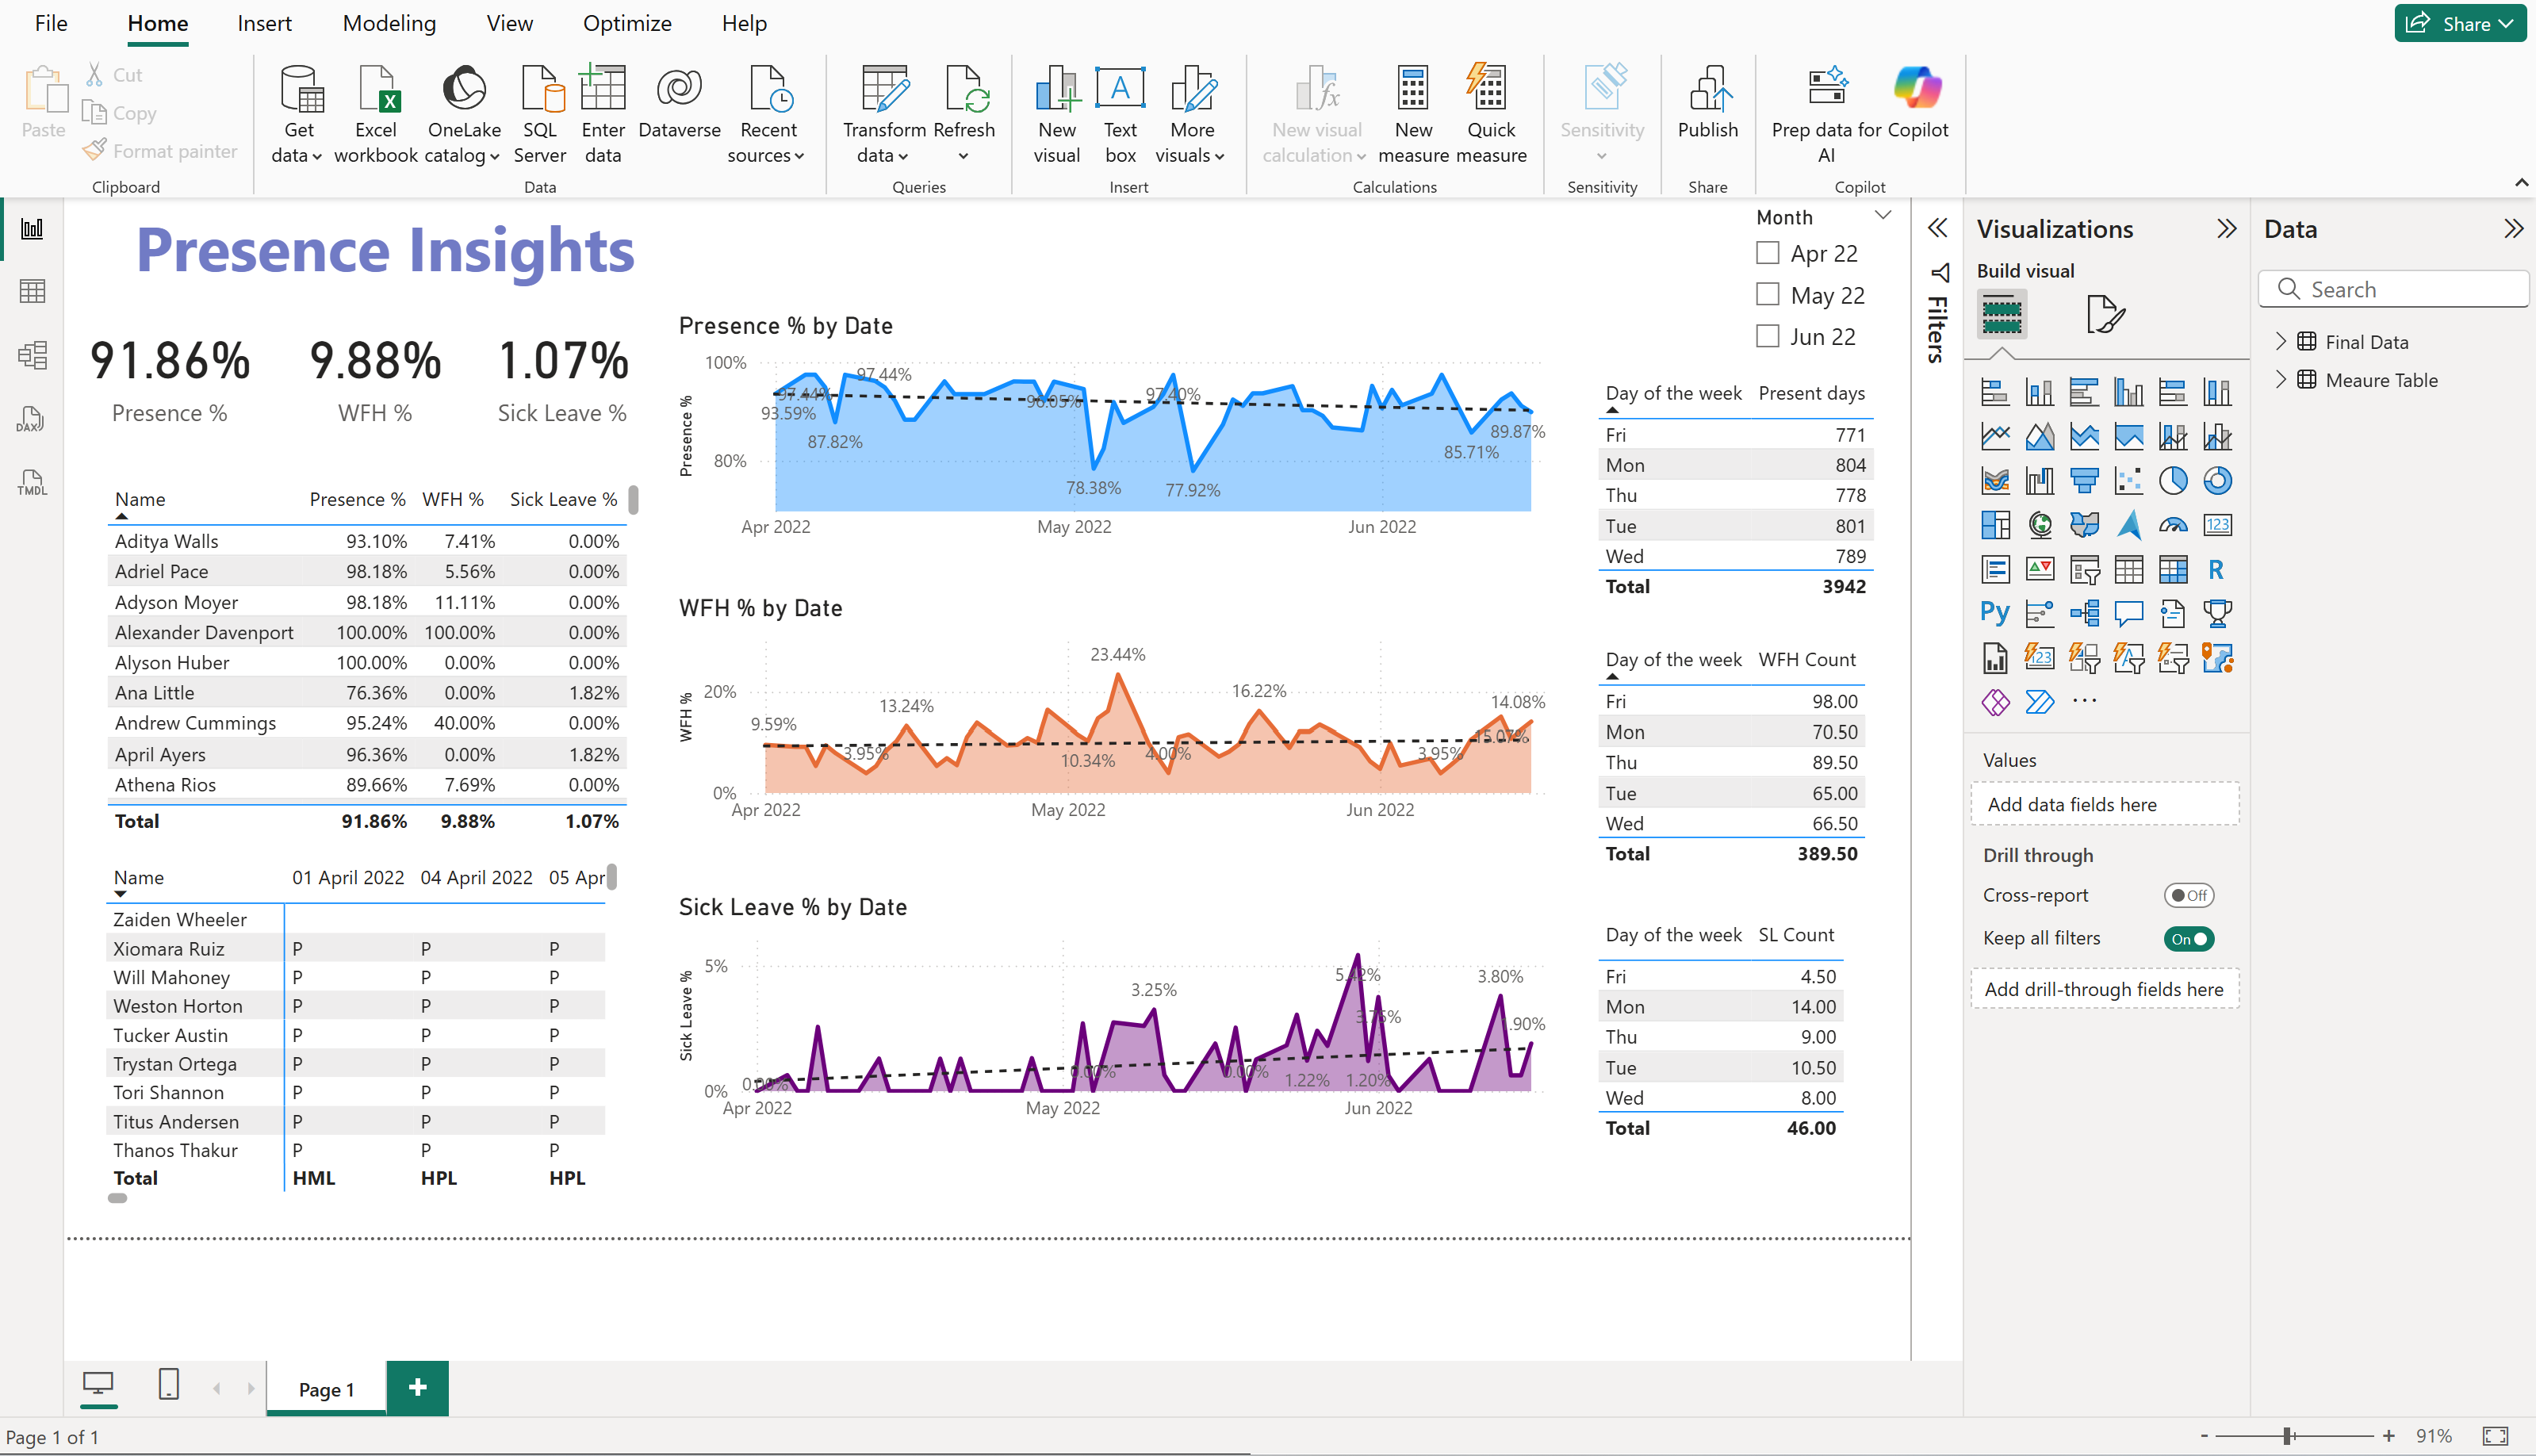

The page's visual inventory and layout, read from the dashboard file:
{"tool":"powerbi","page":{"name":"Page 1","canvas":[1280,720],"ordinal":0},"visuals":[{"type":"card","fields":{"Values":["Meaure Table.Presence %"]},"box":[0,63.8,146.2,112.5],"z":0},{"type":"slicer","fields":{"Values":["Final Data.Month"]},"box":[1160,0,120,128.6],"z":1000},{"type":"card","fields":{"Values":["Meaure Table.WFH %"]},"box":[146.2,63.8,138.8,112.5],"z":2000},{"type":"card","fields":{"Values":["Meaure Table.Sick Leave %"]},"box":[285,63.8,121.2,112.5],"z":3000},{"type":"tableEx","fields":{"Values":["Final Data.Name","Meaure Table.Presence %","Meaure Table.WFH %","Meaure Table.Sick Leave %"]},"box":[23.8,193.8,380,252.5],"z":4000},{"type":"textbox","box":[43.8,0,386.2,78.8],"z":5000},{"type":"pivotTable","fields":{"Rows":["Final Data.Name"],"Values":["Min(Final Data.Value)"],"Columns":["Final Data.Date"]},"box":[23.8,455,365,247.5],"z":6000},{"type":"areaChart","fields":{"Category":["Final Data.Date"],"Y":["Meaure Table.Presence %"]},"box":[420.7,79.5,625,167.5],"z":7000},{"type":"areaChart","fields":{"Category":["Final Data.Date"],"Y":["Meaure Table.WFH %"]},"box":[420.7,274.5,625,167.5],"z":8000},{"type":"areaChart","fields":{"Category":["Final Data.Date"],"Y":["Meaure Table.Sick Leave %"]},"box":[420.7,482,625,167.5],"z":9000},{"type":"tableEx","fields":{"Values":["Final Data.Day of the week","Meaure Table.Present days"]},"box":[1057.5,120,205,168.8],"z":10000},{"type":"tableEx","fields":{"Values":["Final Data.Day of the week","Meaure Table.WFH Count"]},"box":[1057.5,305,205,168.8],"z":11000},{"type":"tableEx","fields":{"Values":["Final Data.Day of the week","Meaure Table.SL Count"]},"box":[1057.5,495,205,168.8],"z":12000}]}

Visuals, with their boxes on the page's 1280x720 design canvas (x1, y1, x2, y2). These are canvas units, not pixel positions in the 2536x1456 screenshot, which may show the page scaled, cropped or inside an application window:
card - Meaure Table.Presence %: 0 64 146 176
slicer - Final Data.Month: 1160 0 1280 129
card - Meaure Table.WFH %: 146 64 285 176
card - Meaure Table.Sick Leave %: 285 64 406 176
tableEx - Final Data.Name x Meaure Table.Presence %: 24 194 404 446
textbox: 44 0 430 79
pivotTable - Final Data.Name x Min(Final Data.Value): 24 455 389 702
areaChart - Final Data.Date x Meaure Table.Presence %: 421 80 1046 247
areaChart - Final Data.Date x Meaure Table.WFH %: 421 274 1046 442
areaChart - Final Data.Date x Meaure Table.Sick Leave %: 421 482 1046 650
tableEx - Final Data.Day of the week x Meaure Table.Present days: 1058 120 1262 289
tableEx - Final Data.Day of the week x Meaure Table.WFH Count: 1058 305 1262 474
tableEx - Final Data.Day of the week x Meaure Table.SL Count: 1058 495 1262 664
